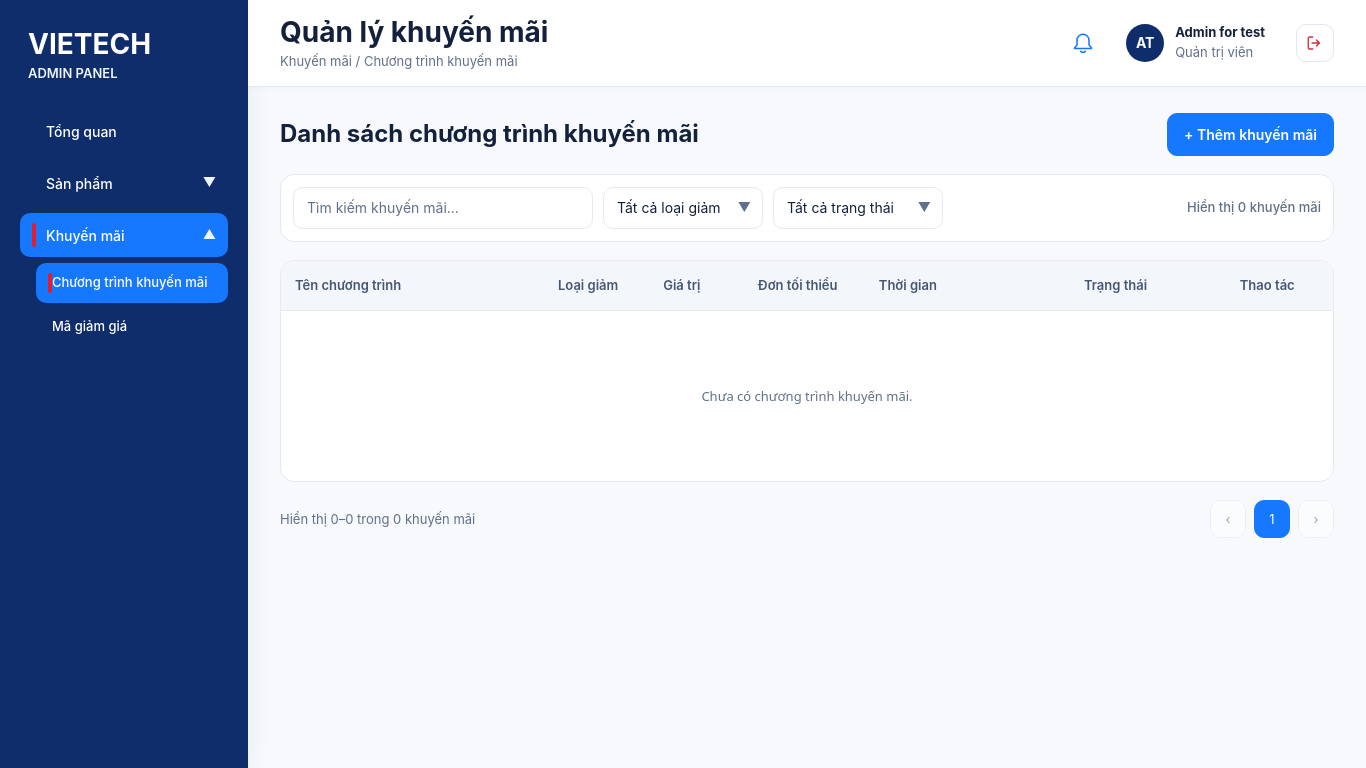
Scenario: create submits category-only scope and returns to refreshed list
Expected: the heading "Chưa có chương trình khuyến mãi." is shown, x1=701 y1=387 x2=913 y2=406
Click the button "+ Thêm khuyến mãi".
click(1250, 134)  # box x1=1167 y1=113 x2=1334 y2=156
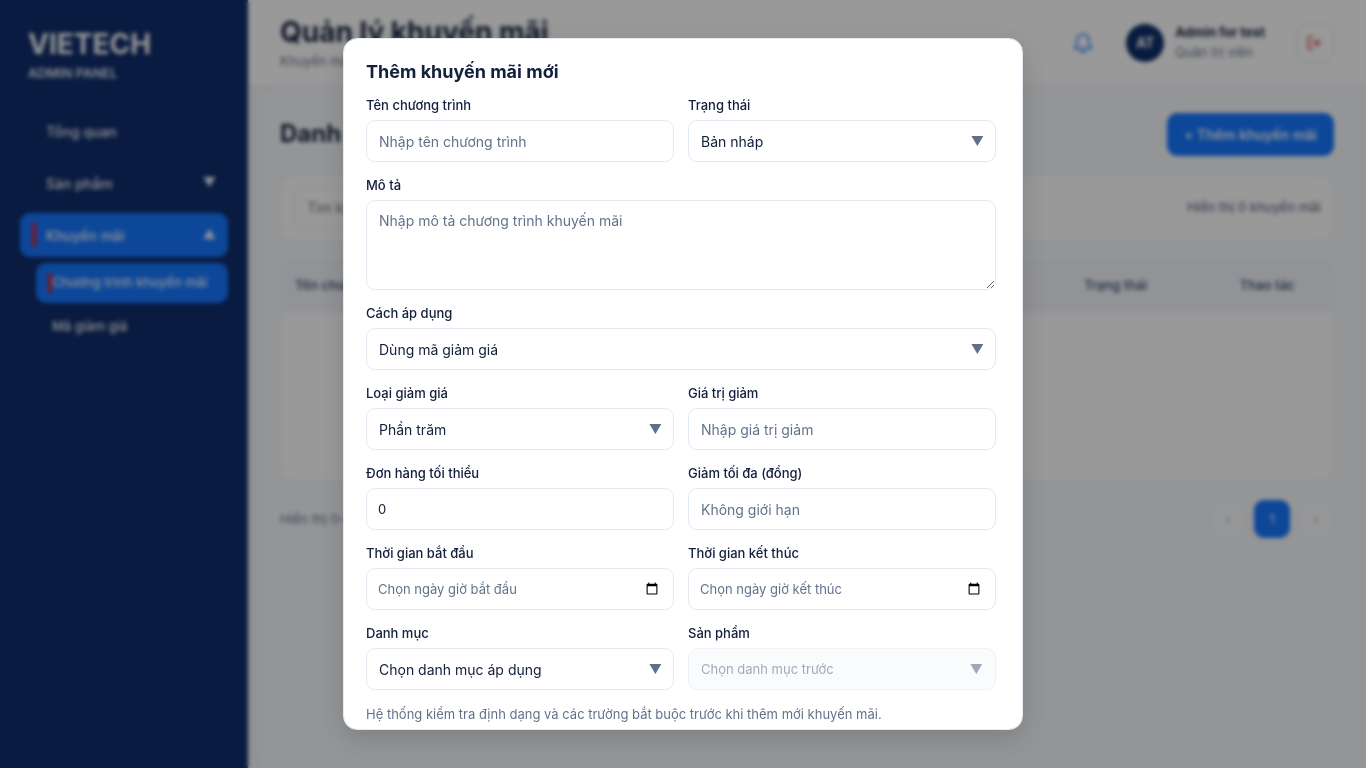
Result: the field labelled "Tên chương trình" is shown
Result: the button with aria-label "Sản phẩm áp dụng" is disabled at x1=688 y1=648 x2=996 y2=690
Type "Chương trình mới" into the field labelled "Tên chương trình".
click(520, 141); type("Chương trình mới")  # box x1=366 y1=120 x2=674 y2=162
Type "15" into the number field labelled "Giá trị giảm".
click(842, 429); type("15")  # box x1=688 y1=408 x2=996 y2=450
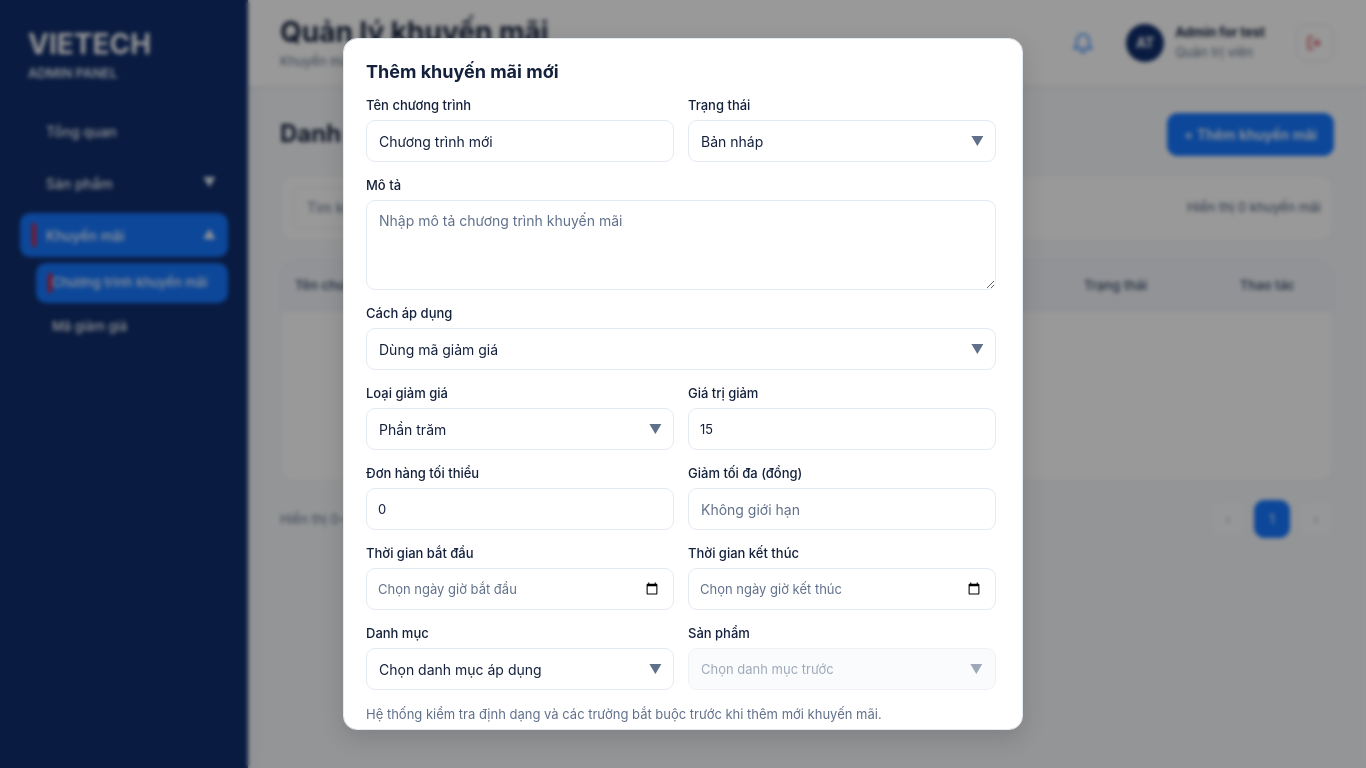
Type "2026-10-01T00:00:00" into the field labelled "bắt đầu".
click(520, 589); type("2026-10-01T00:00:00")  # box x1=366 y1=568 x2=674 y2=610
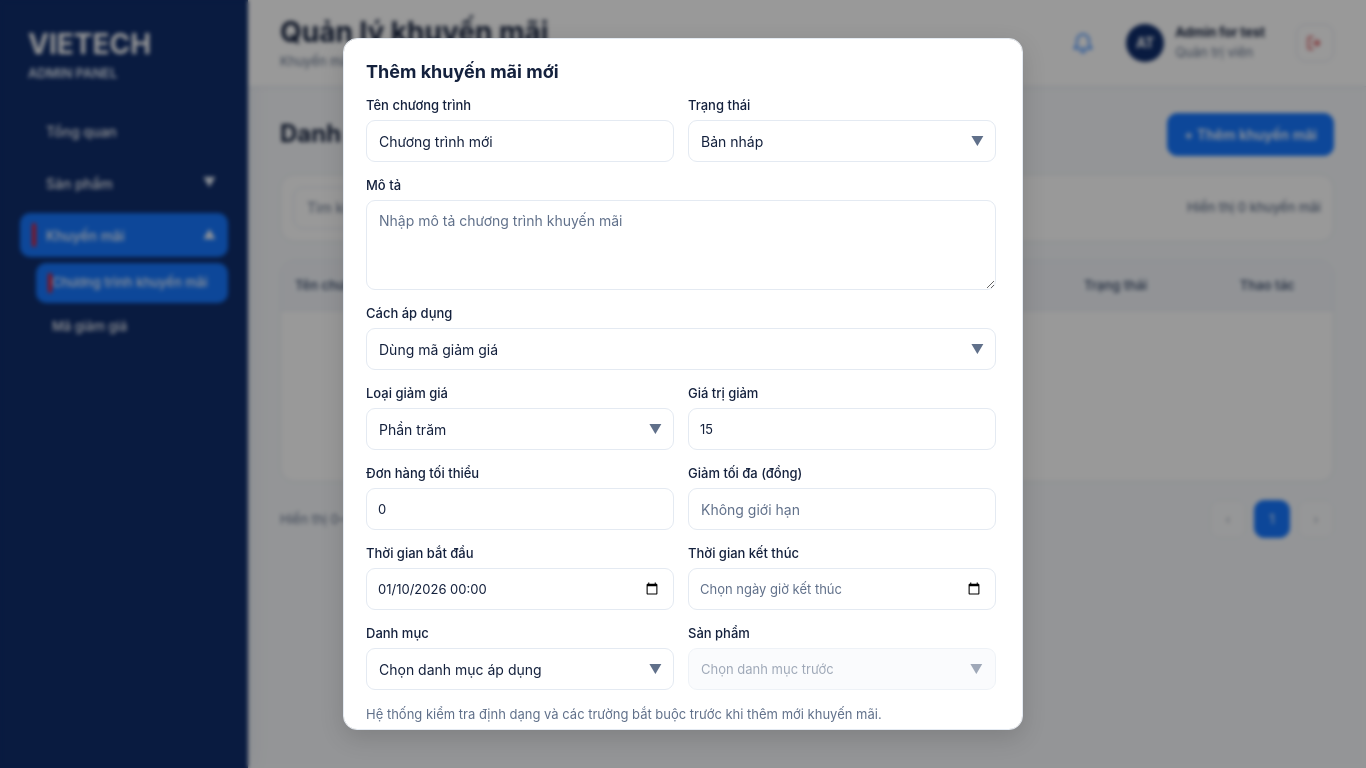
Type "2026-10-31T23:59:59" into the field labelled "kết thúc".
click(842, 589); type("2026-10-31T23:59:59")  # box x1=688 y1=568 x2=996 y2=610
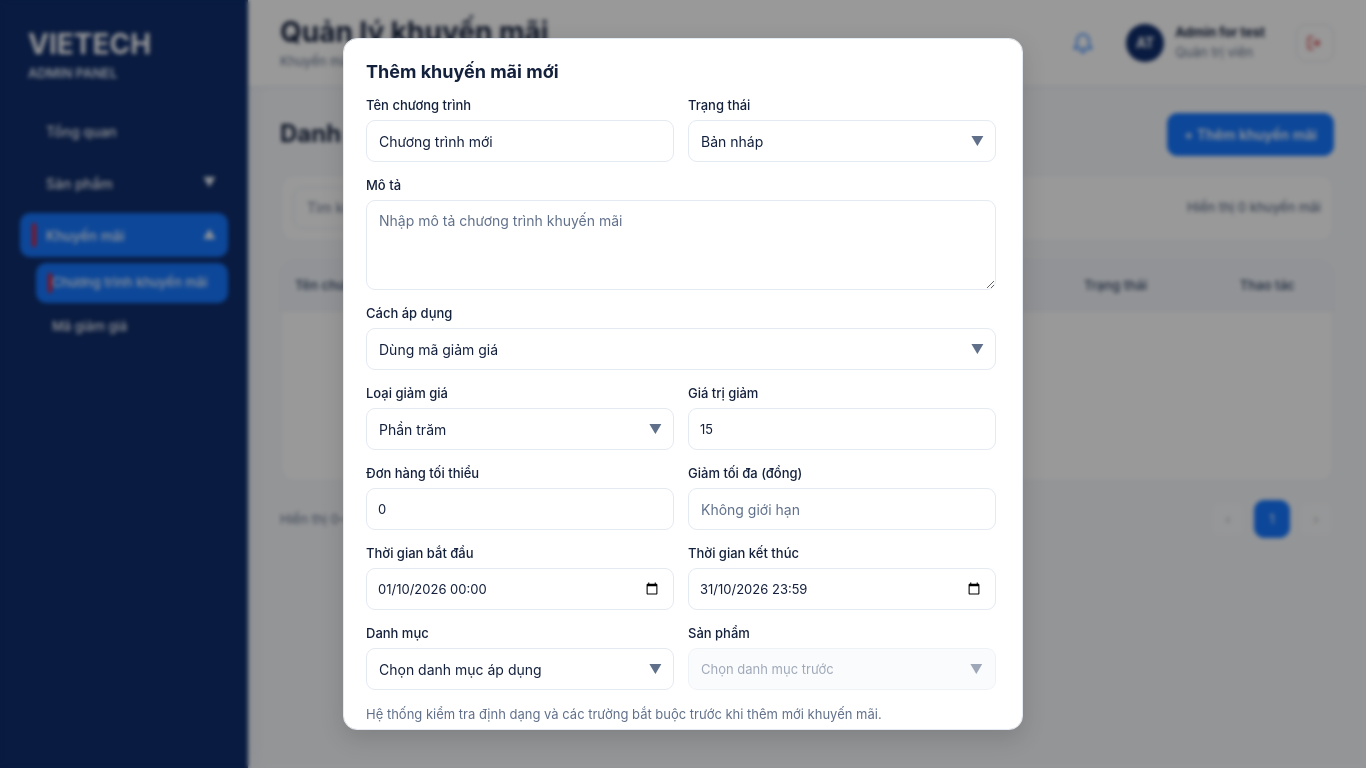
Select "Điện thoại" in the dropdown named "Danh mục áp dụng" at (520, 669), box x1=366 y1=648 x2=674 y2=690
(page scrolled)
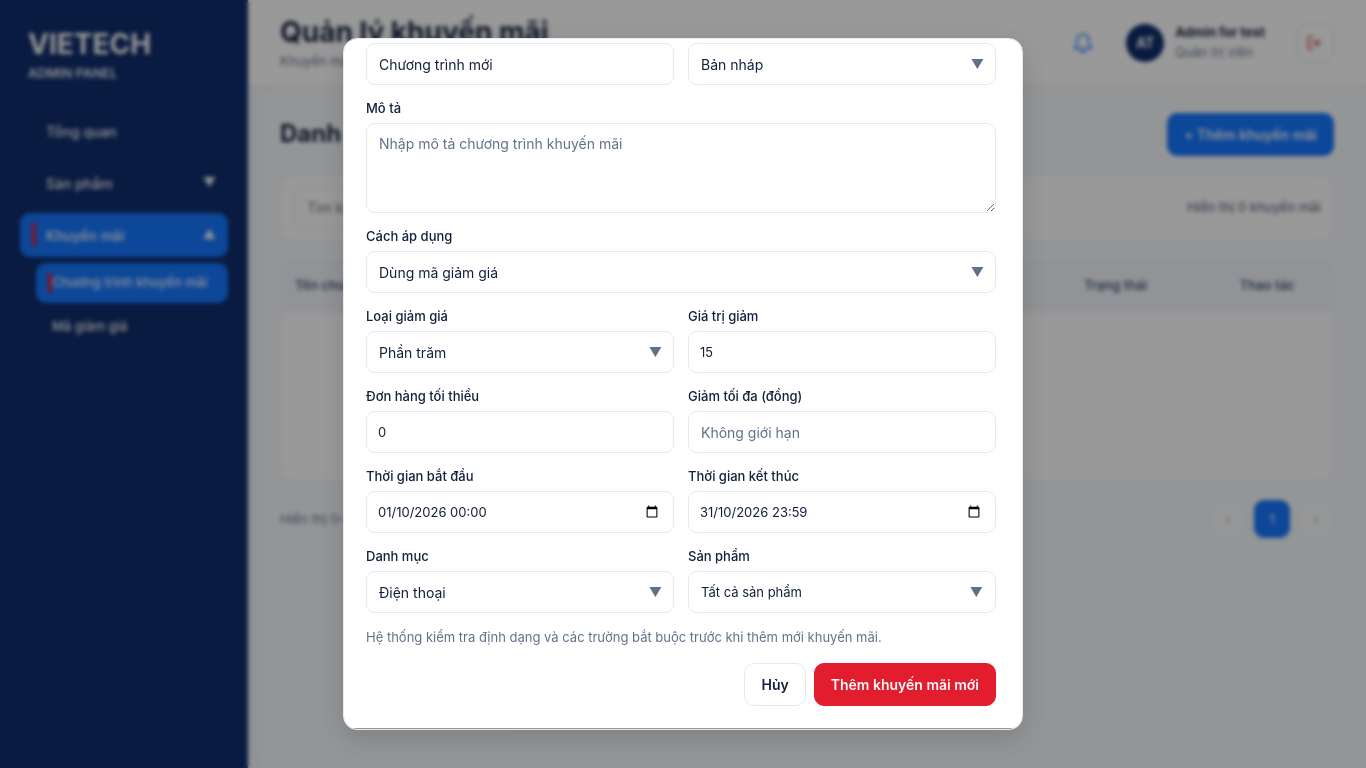
Result: the button with aria-label "Sản phẩm áp dụng" shows "Tất cả sản phẩm" at x1=688 y1=571 x2=996 y2=613
Click the button "Thêm khuyến mãi mới".
click(905, 684)  # box x1=814 y1=663 x2=996 y2=706
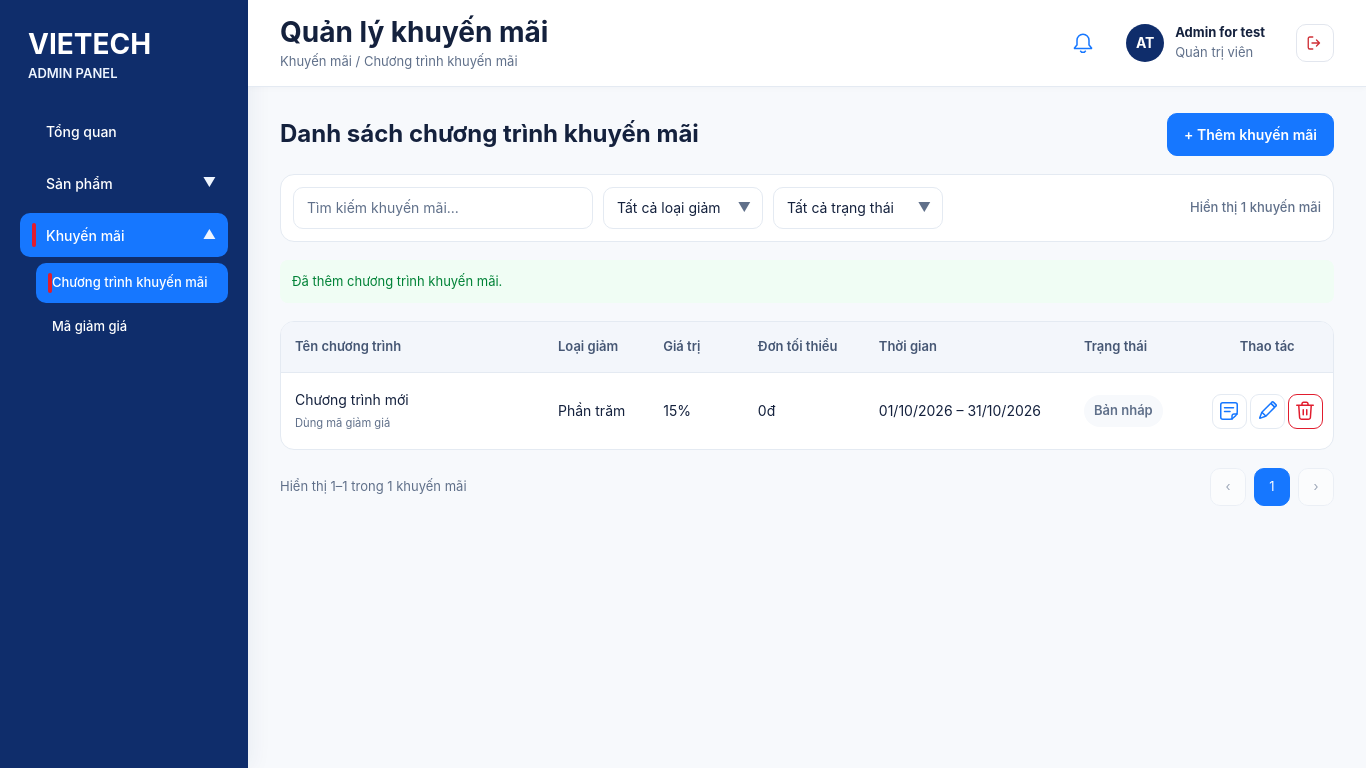
Result: the text "Đã thêm chương trình khuyến mãi." is shown at x1=280 y1=260 x2=1334 y2=303
Result: the text "Chương trình mới" is shown at x1=295 y1=391 x2=409 y2=408
